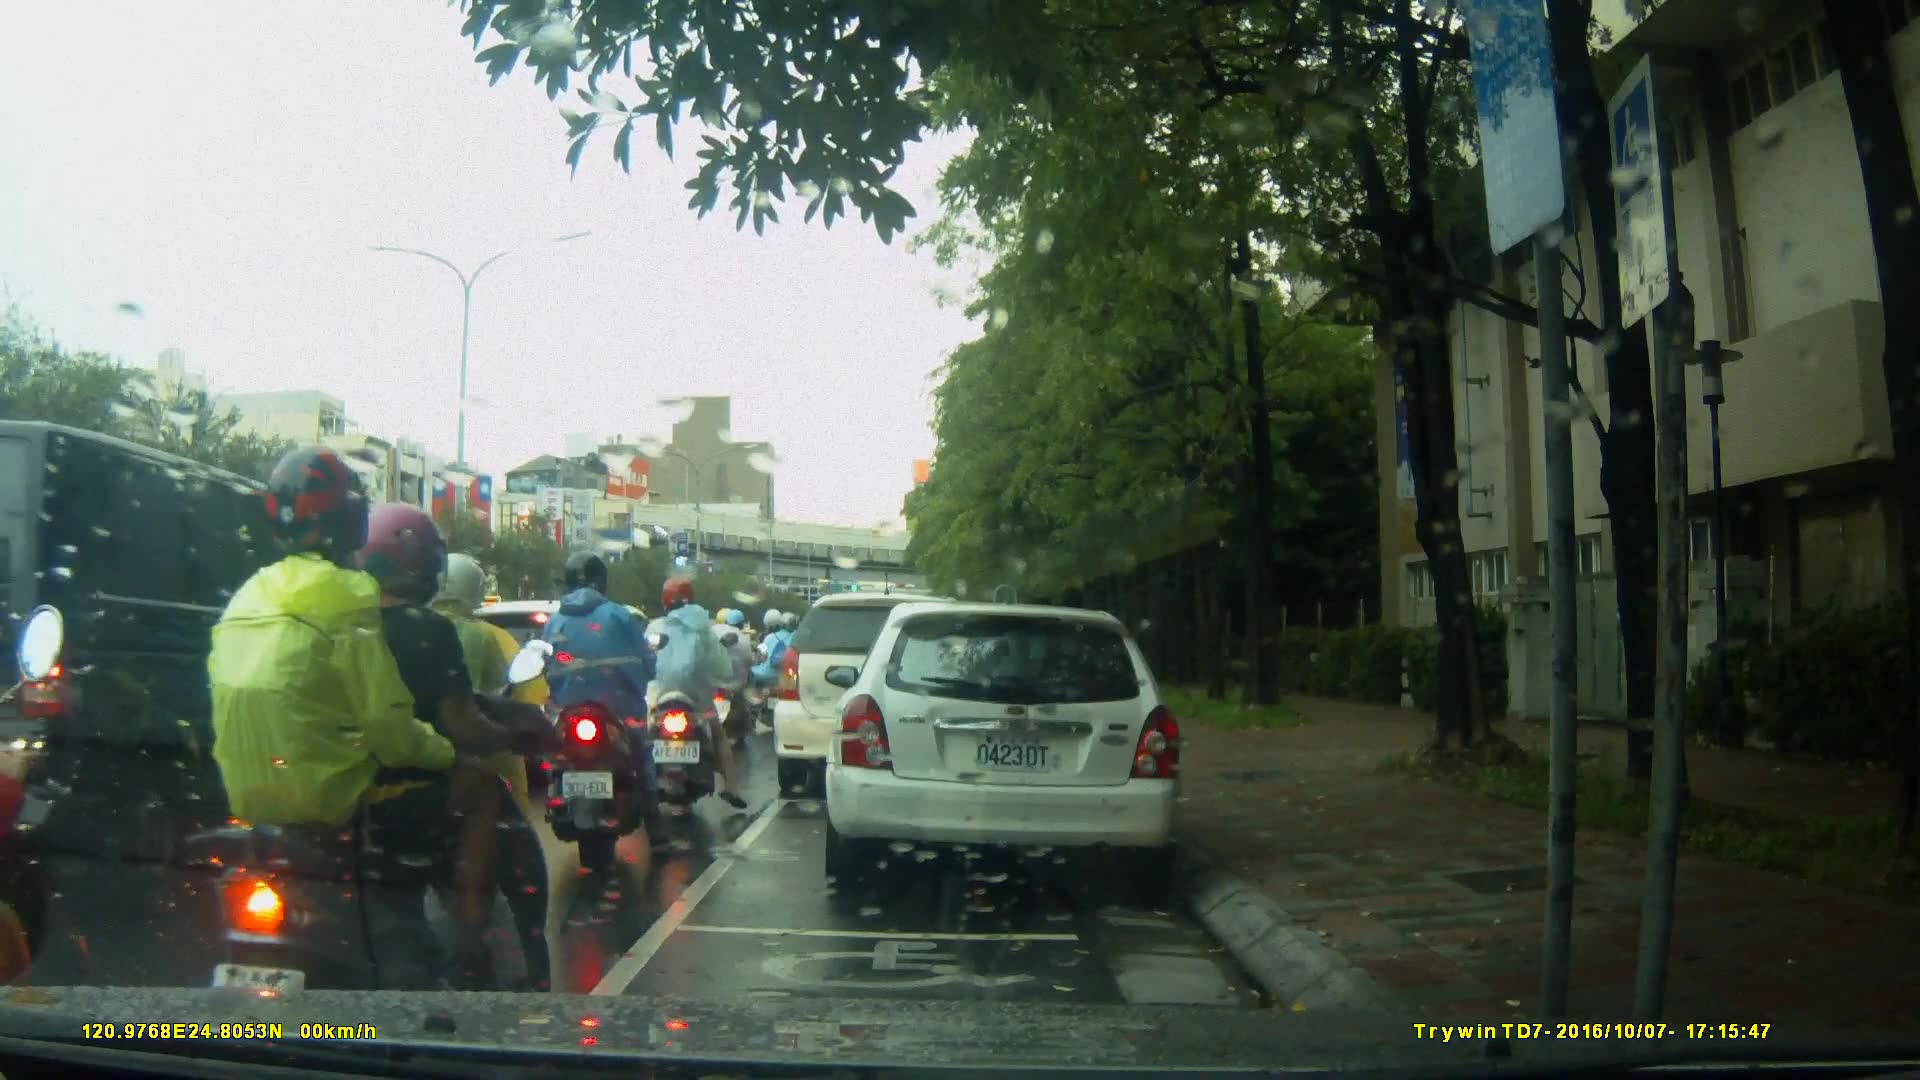rider: (204, 447, 566, 1061), (365, 552, 560, 943), (535, 556, 664, 863), (633, 579, 748, 811), (706, 607, 760, 733)
vehicle: (3, 414, 417, 951), (822, 604, 1188, 883), (376, 591, 662, 800), (774, 595, 995, 802)
